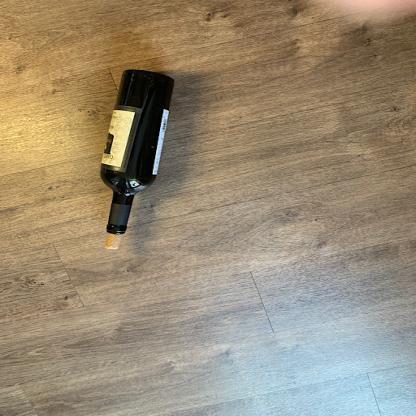trash: (100, 68, 183, 233)
